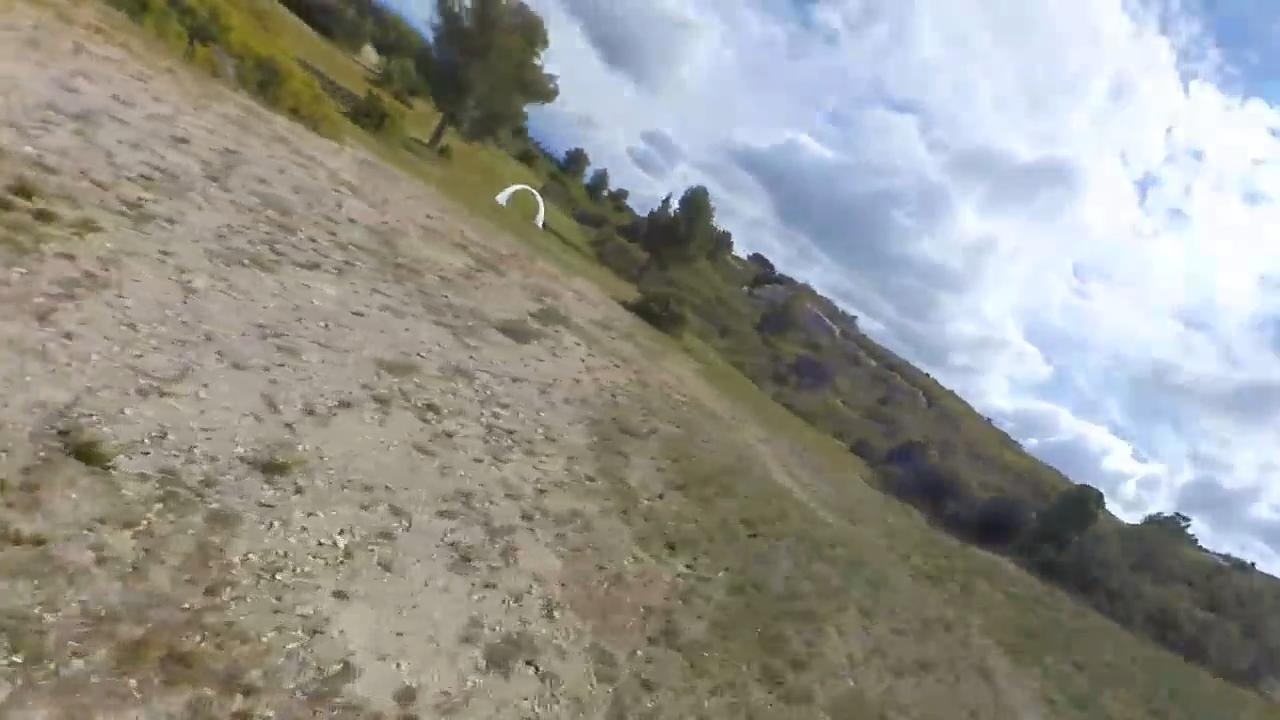gate: (496, 181, 547, 229)
